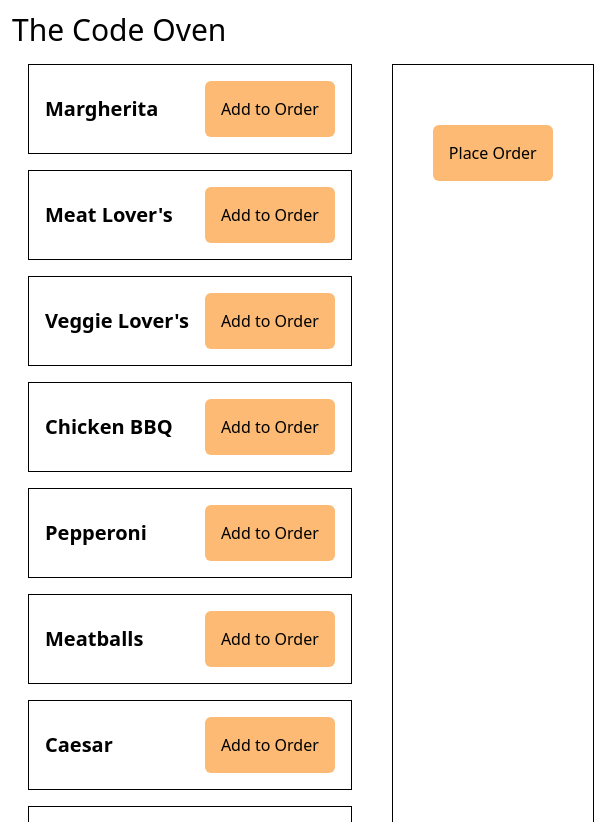
Test: Home Page › Adds a menu item to the cart
Click the button "Add to Order" next to "Margherita" at (270, 109), box [205,81,335,137]
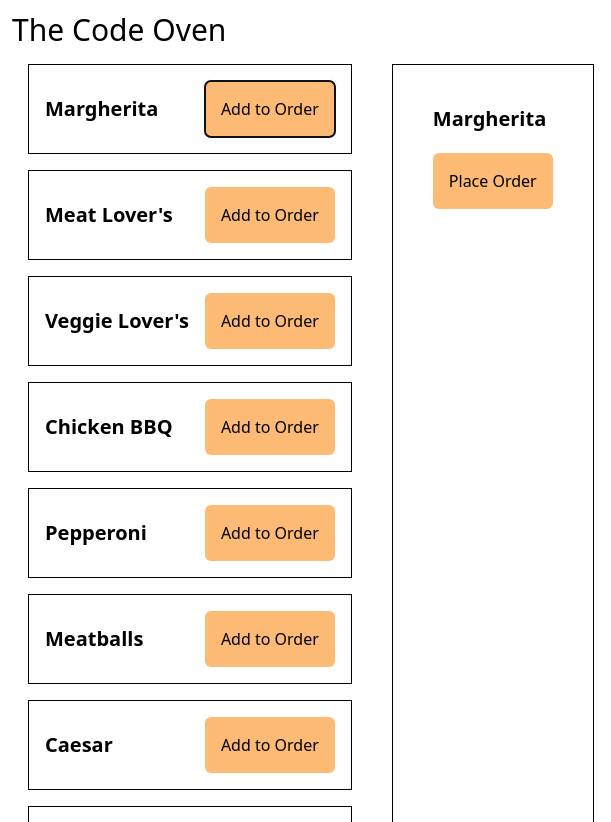
Expected: the list item "Margherita" is shown, [433,105,553,133]
Expected: the button "Place Order" is enabled, [433,153,553,209]
